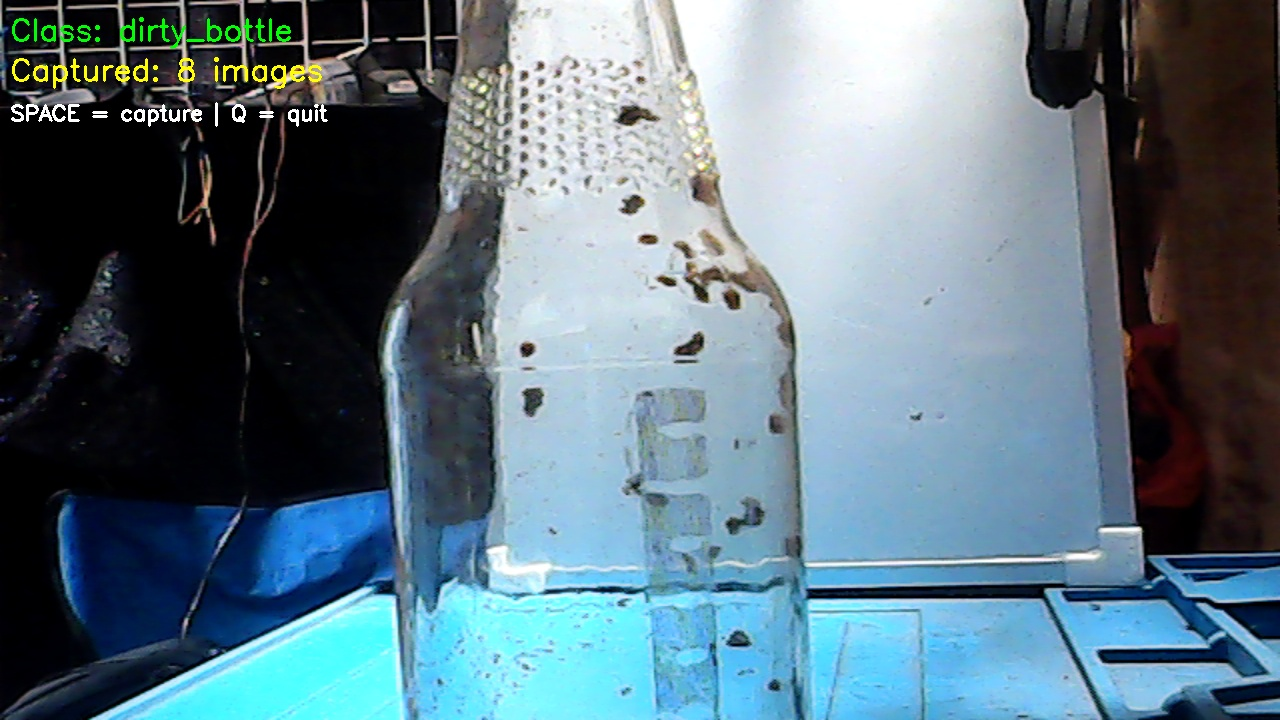dirty_bottle: (382, 17, 819, 720)
